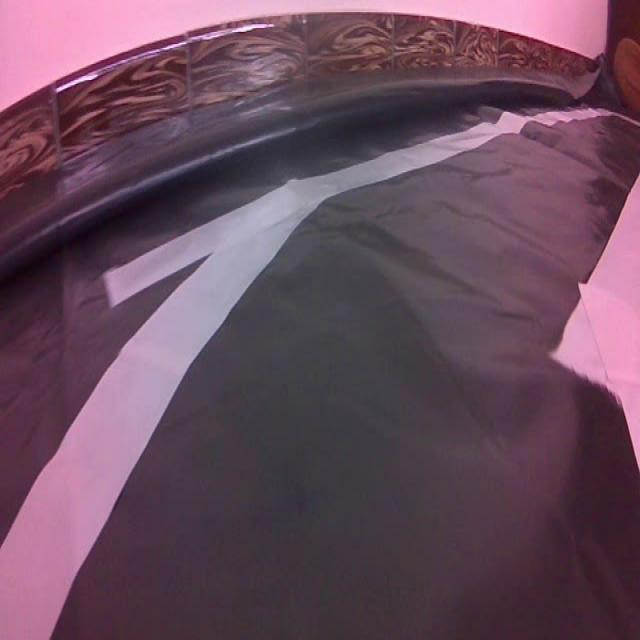LineaCarril: (0, 197, 322, 638), (104, 123, 505, 306), (554, 175, 640, 466)
